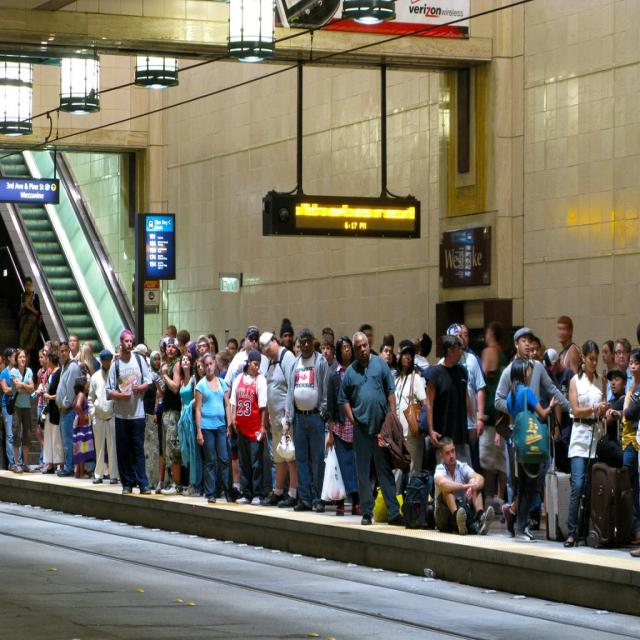body: (493, 326, 578, 532), (340, 330, 410, 528), (504, 354, 560, 544), (562, 338, 609, 550), (281, 326, 332, 513), (222, 324, 270, 505), (103, 327, 153, 498), (433, 323, 488, 477), (422, 334, 478, 471), (258, 330, 300, 509), (436, 322, 486, 472), (326, 334, 362, 517), (432, 435, 496, 537), (194, 351, 236, 504), (228, 346, 268, 506), (479, 318, 508, 514), (154, 334, 185, 497), (540, 346, 578, 476), (393, 345, 429, 477), (86, 348, 120, 486), (53, 340, 83, 478), (7, 347, 37, 475), (176, 352, 201, 500), (158, 336, 181, 496), (528, 333, 562, 441), (622, 346, 640, 547), (40, 346, 66, 476), (0, 345, 25, 473), (34, 340, 58, 473), (152, 336, 170, 496), (69, 375, 95, 481), (189, 355, 207, 497), (596, 366, 628, 443), (15, 276, 42, 367), (146, 350, 166, 469), (32, 346, 48, 470), (606, 336, 635, 402), (556, 314, 582, 375), (379, 341, 398, 422), (76, 342, 97, 400), (601, 339, 618, 403), (318, 332, 342, 376), (414, 329, 433, 371), (357, 322, 379, 358), (309, 325, 335, 353), (280, 318, 296, 358), (383, 332, 399, 370), (83, 340, 101, 372), (215, 346, 232, 379), (396, 338, 416, 365), (68, 332, 82, 362), (184, 340, 200, 365), (196, 334, 212, 358), (130, 343, 148, 364), (206, 333, 220, 354), (290, 335, 302, 358), (176, 329, 190, 348), (226, 338, 239, 357), (632, 320, 640, 342), (165, 324, 177, 338), (0, 355, 8, 375), (629, 548, 639, 558), (112, 343, 119, 356), (240, 338, 246, 352)
